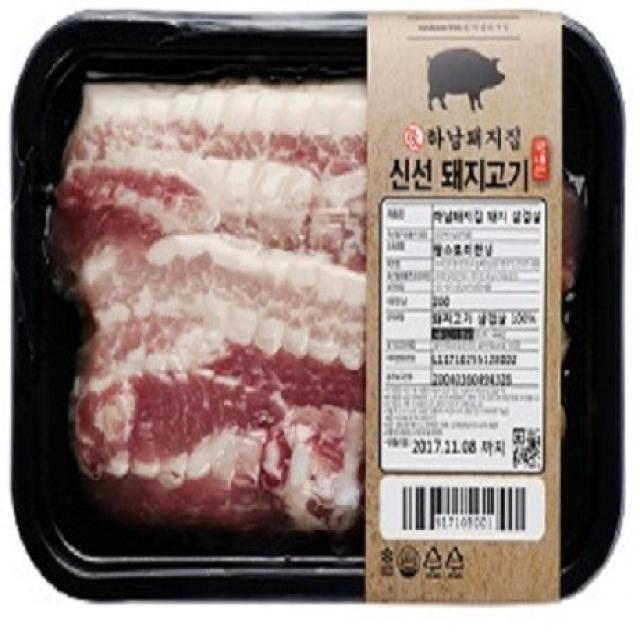pork: (35, 33, 602, 576)
